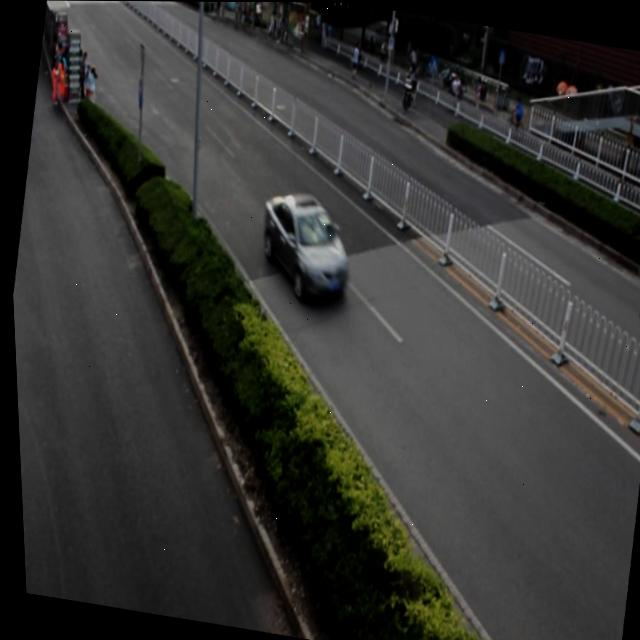car: (248, 184, 357, 309)
